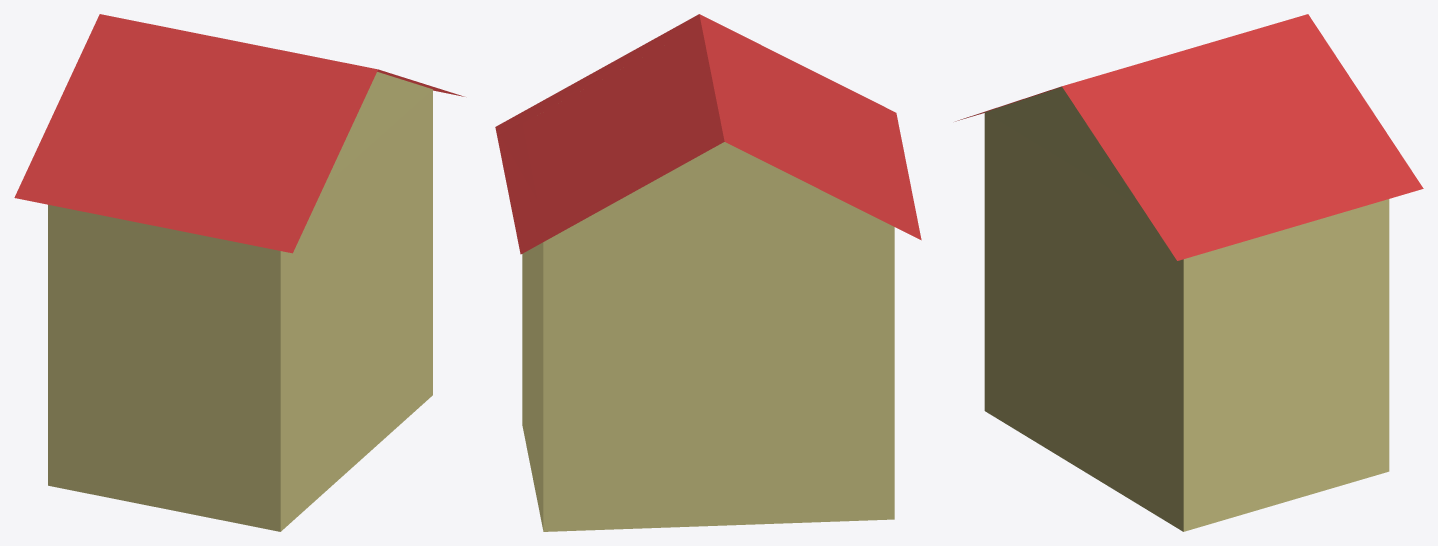
The picture shows the model from 3 angles, left to right: view 1: azimuth 30°, elevation 25°; view 2: azimuth 150°, elevation 25°; view 3: azimuth 270°, elevation 25°; orthographic projection. The views are drawn at different scales.
Size of the model in its own units: 15.08 by 14.34 by 13.03.
